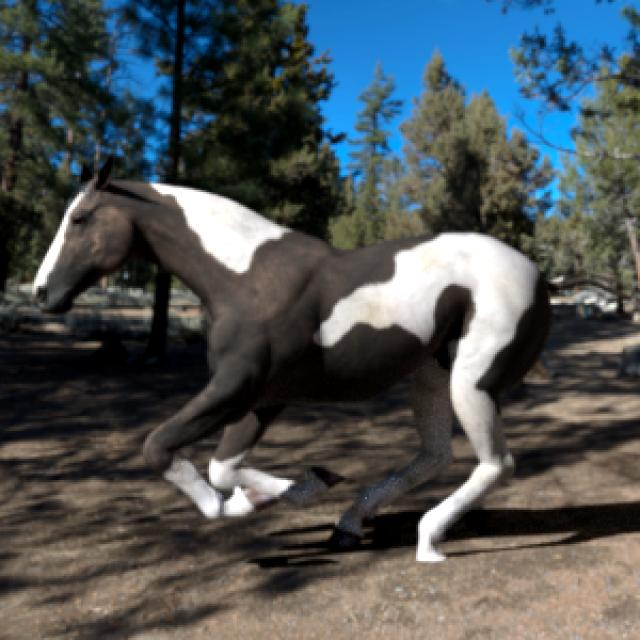horse: (35, 165, 549, 562)
